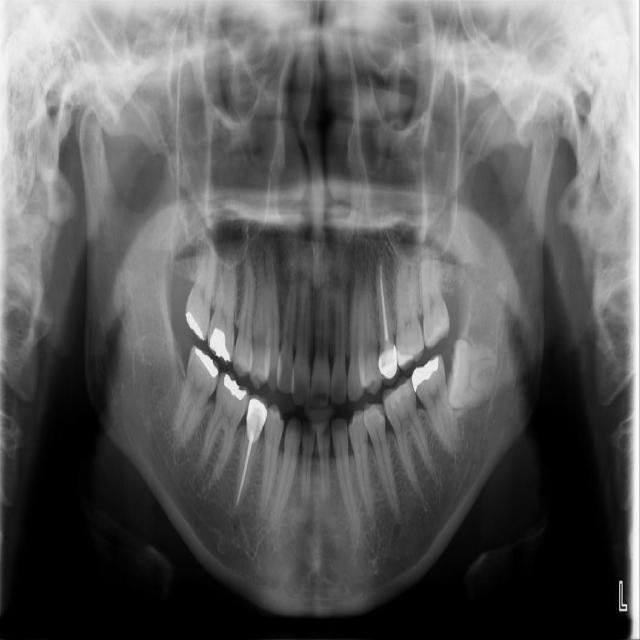52: (204, 367, 261, 422), (372, 372, 429, 427), (403, 352, 460, 407), (180, 342, 229, 393), (184, 285, 211, 343), (395, 321, 425, 373), (207, 311, 235, 366), (376, 342, 401, 388), (244, 393, 268, 439)
73: (231, 424, 262, 517), (375, 256, 395, 348), (580, 583, 586, 597)
BioHorizons Implant: (419, 243, 451, 351)
Biomet 3i Implant: (442, 337, 501, 415)
Blue Sky Bio Implant: (407, 353, 465, 462)
Caries: (182, 229, 220, 343)
Implant: (168, 344, 226, 454)
